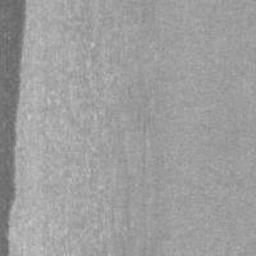Water spot: (0, 0, 28, 256)
